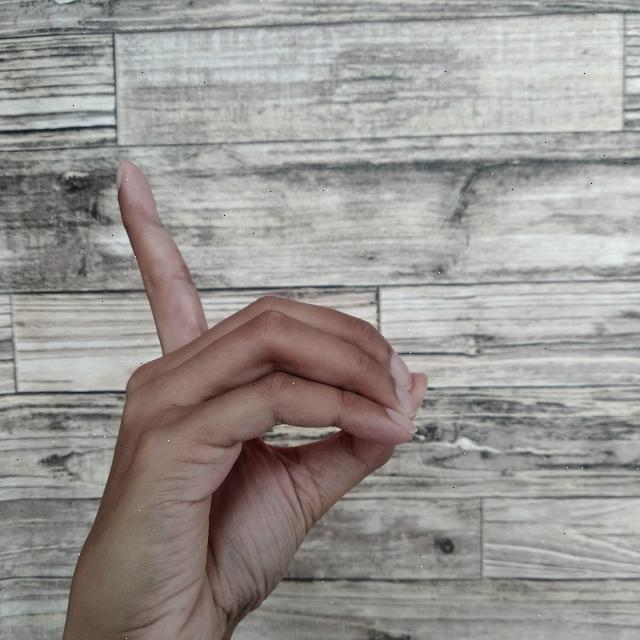D: (66, 161, 431, 640)
